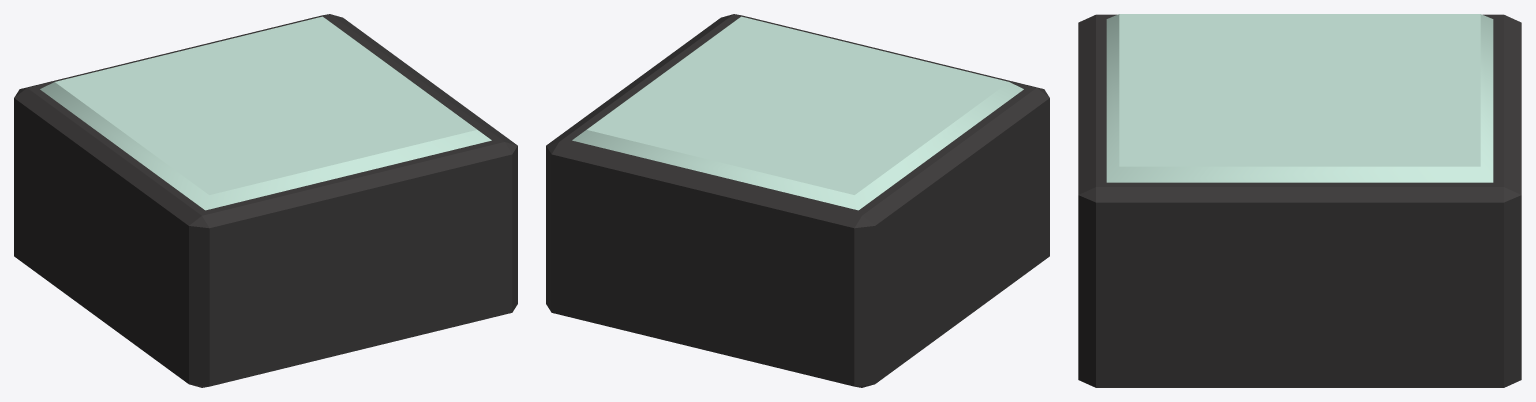
File: winter-cube-medium-v2.glb
3 views of the same model, side by side, from view 1: azimuth 30°, elevation 25°; view 2: azimuth 150°, elevation 25°; view 3: azimuth 270°, elevation 25° (orthographic). The views are drawn at different scales.
Parts seen in each view (by area): view 1: WinterCubeMedium_v2; view 2: WinterCubeMedium_v2; view 3: WinterCubeMedium_v2.
Boxes of the visible parts, x1,y1,x2,y2 form: WinterCubeMedium_v2: [14, 14, 517, 387]; WinterCubeMedium_v2: [546, 14, 1049, 387]; WinterCubeMedium_v2: [1078, 14, 1521, 387].
Bounding box in the file's own units: 200 × 105 × 200.
Materials: 1 (1 with a texture image).
